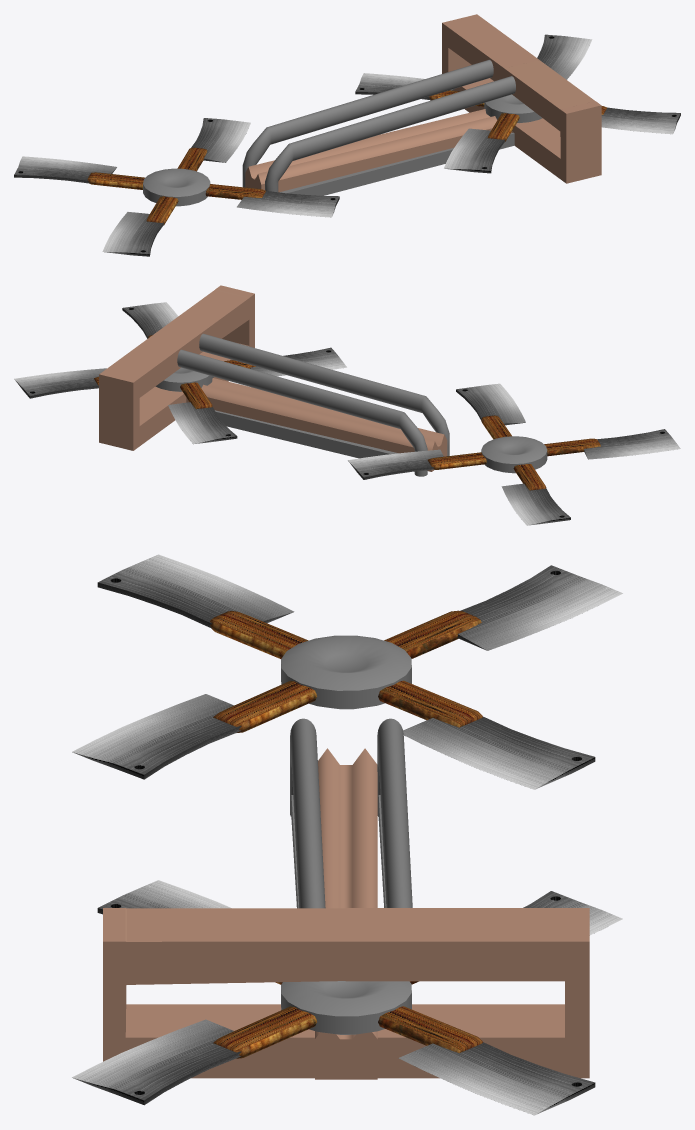
File: ButcherCleaverCannon.fbx
The picture shows the model from 3 angles, top to bottom: view 1: azimuth 30°, elevation 25°; view 2: azimuth 150°, elevation 25°; view 3: azimuth 270°, elevation 25°; orthographic projection. The views are drawn at different scales.
Parts seen in each view (by area): view 1: pCube9, pasted__polySurface12; view 2: pCube9, pasted__polySurface12; view 3: pCube9, pasted__polySurface12.
Part boxes in pixels (x1=…): pCube9: x1=242, y1=14, x2=680, y2=195; pasted__polySurface12: x1=14, y1=118, x2=339, y2=256; pCube9: x1=14, y1=285, x2=449, y2=476; pasted__polySurface12: x1=348, y1=383, x2=680, y2=525; pCube9: x1=72, y1=718, x2=622, y2=1115; pasted__polySurface12: x1=72, y1=554, x2=622, y2=789.
Bounding box in the file's own units: 75.86 × 8.8 × 31.63.
Materials: 7 (4 with a texture image).
